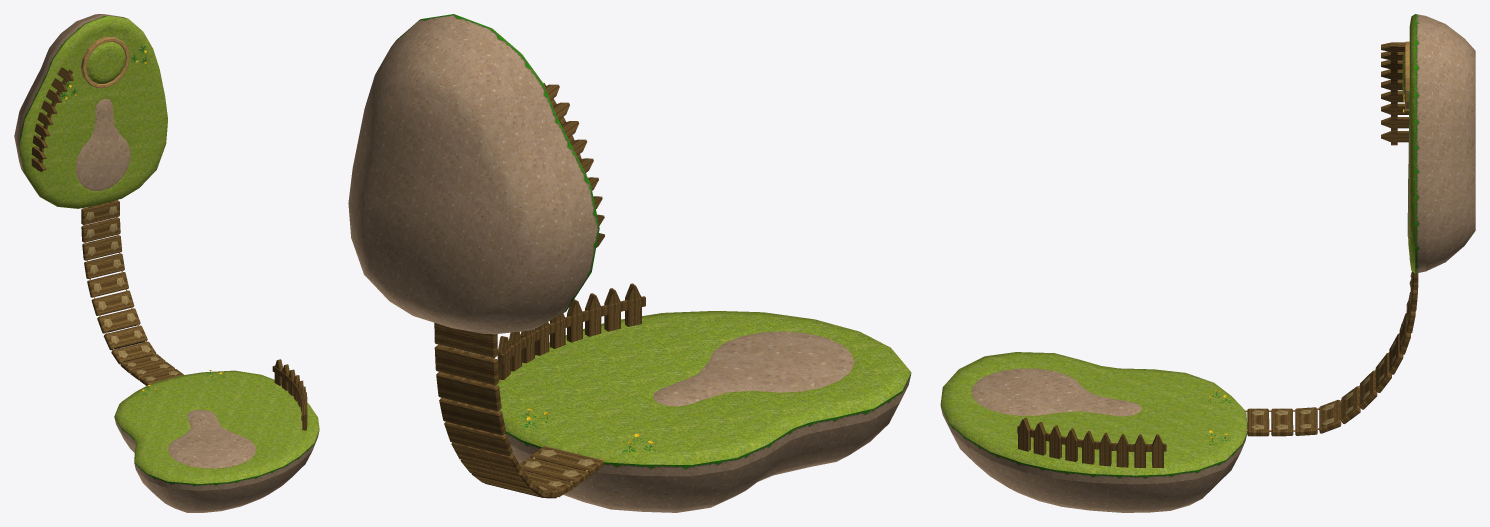
Rendered from CloudyGardenStepE.fbx.
3 renders of one model, left to right at view 1: azimuth 30°, elevation 25°; view 2: azimuth 150°, elevation 25°; view 3: azimuth 270°, elevation 25°, orthographic. The views are drawn at different scales.
Visible parts, largest first — view 1: NurbsPath.004, NurbsPath.003, NurbsPath.006, NurbsPath.005, NurbsPath.000, NurbsPath.001, NurbsPath.002; view 2: NurbsPath.003, NurbsPath.004, NurbsPath.006, NurbsPath.005; view 3: NurbsPath.003, NurbsPath.004, NurbsPath.006, NurbsPath.005, NurbsPath.000.
Part boxes in pixels (x1,y1,x2,y2): NurbsPath.004: (19,15,319,483); NurbsPath.003: (14,14,312,512); NurbsPath.006: (31,67,307,430); NurbsPath.005: (16,14,319,490); NurbsPath.000: (85,206,178,380); NurbsPath.001: (81,37,173,383); NurbsPath.002: (60,46,225,395); NurbsPath.003: (348,21,899,512); NurbsPath.004: (491,28,911,464); NurbsPath.006: (434,83,645,498); NurbsPath.005: (392,14,911,476); NurbsPath.003: (952,16,1475,512); NurbsPath.004: (940,14,1415,475); NurbsPath.006: (1017,42,1418,467); NurbsPath.005: (940,14,1425,484); NurbsPath.000: (1251,271,1412,429).
Size of the model in its own units: 163433 by 287340 by 304598.
Materials: 7 (7 with a texture image).
